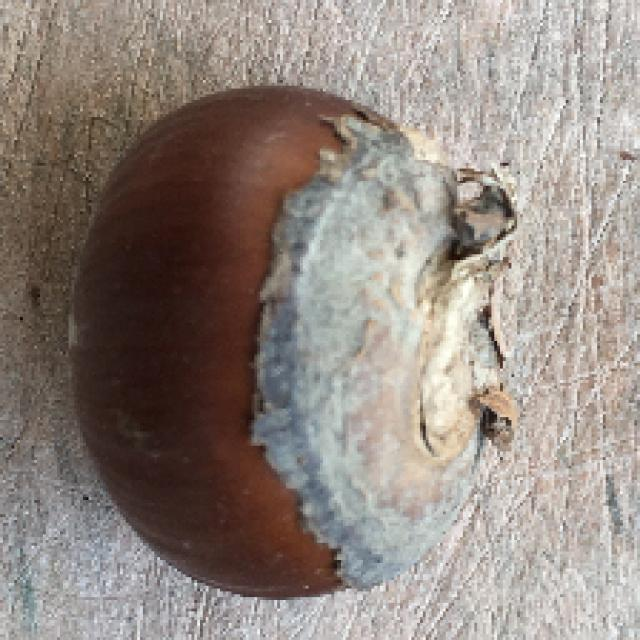damagedHazelnut: (71, 74, 518, 616)
